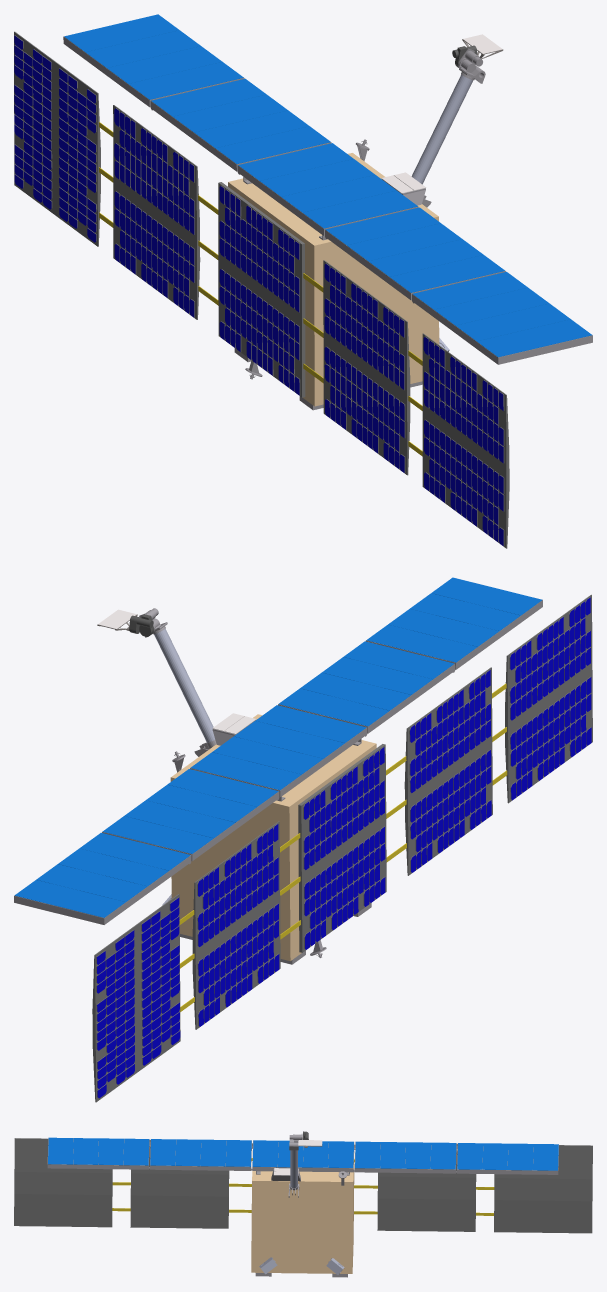
File: satellite.glb
The picture shows the model from 3 angles, top to bottom: view 1: azimuth 30°, elevation 25°; view 2: azimuth 150°, elevation 25°; view 3: azimuth 270°, elevation 25°; orthographic projection. The views are drawn at different scales.
Parts seen in each view (by area): view 1: SatelliteBus, SolarPanels, GimbalArm; view 2: SatelliteBus, SolarPanels, GimbalArm; view 3: SatelliteBus, GimbalArm.
Part boxes in pixels (<box>): SatelliteBus: <box>14,14,592,548</box>; SolarPanels: <box>14,35,503,546</box>; GimbalArm: <box>411,48,485,198</box>; SatelliteBus: <box>14,577,592,1102</box>; SolarPanels: <box>96,597,591,1098</box>; GimbalArm: <box>139,608,216,748</box>; SatelliteBus: <box>14,1137,592,1277</box>; GimbalArm: <box>289,1133,302,1195</box>.
Size of the model in its own units: 1.07 by 1.23 by 3.8.
